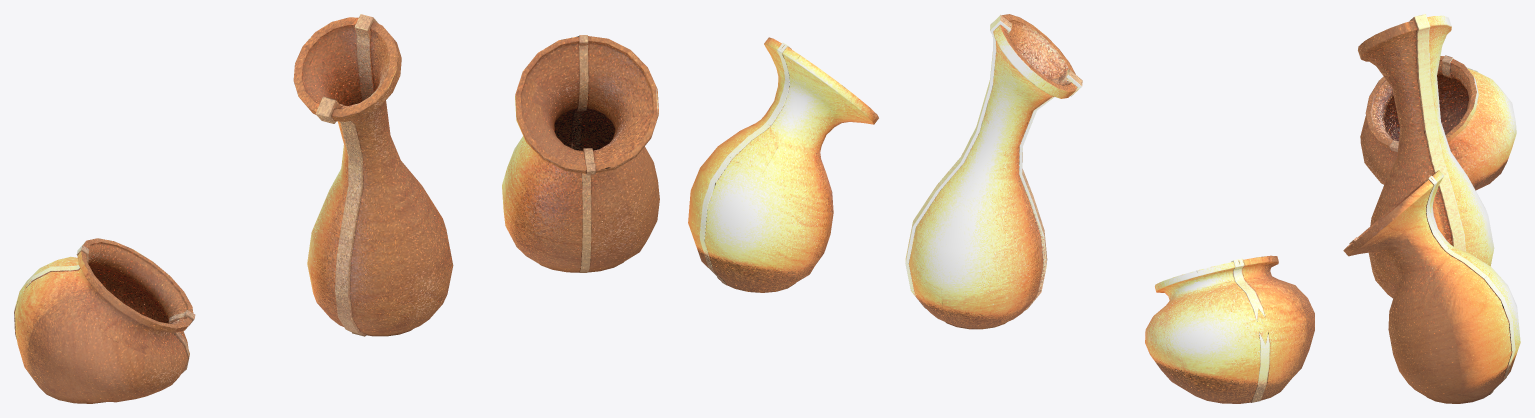
Rendered from pot.gltf.
The picture shows the model from 3 angles, left to right: view 1: azimuth 30°, elevation 25°; view 2: azimuth 150°, elevation 25°; view 3: azimuth 270°, elevation 25°; orthographic projection. The views are drawn at different scales.
Visible parts, largest first — view 1: pot; view 2: pot; view 3: pot.
Boxes of the visible parts, <box> form: pot: <box>14,14,659,403</box>; pot: <box>688,14,1314,403</box>; pot: <box>1343,14,1520,403</box>.
Bounding box in the file's own units: 0.487 × 0.2305 × 0.1363.
Materials: 1 (1 with a texture image).
